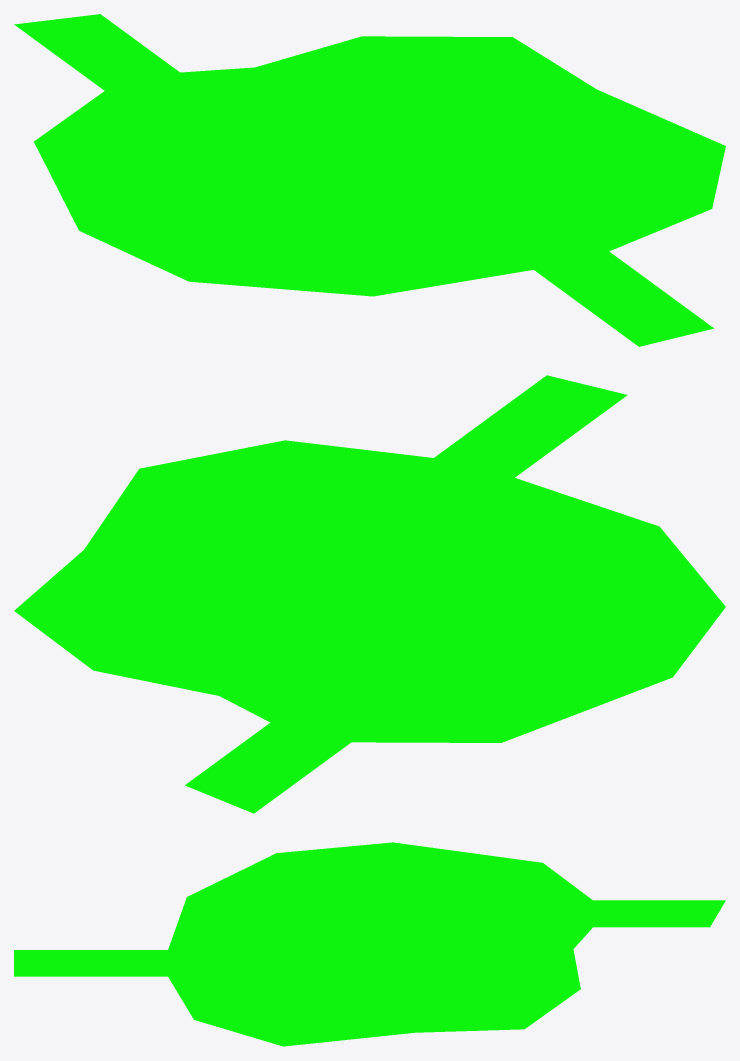
The model's file is s01e_ia1-floor.glb.
The picture shows the model from 3 angles, top to bottom: view 1: azimuth 30°, elevation 25°; view 2: azimuth 150°, elevation 25°; view 3: azimuth 270°, elevation 25°; orthographic projection. The views are drawn at different scales.
Parts seen in each view (by area): view 1: collision_floor-colonly; view 2: collision_floor-colonly; view 3: collision_floor-colonly.
Part boxes in pixels (left/top/right/bottom): collision_floor-colonly: left=14, top=14, right=725, bottom=346; collision_floor-colonly: left=14, top=375, right=725, bottom=813; collision_floor-colonly: left=14, top=842, right=725, bottom=1046.
Size of the model in its own units: 45.46 by 0 by 67.
